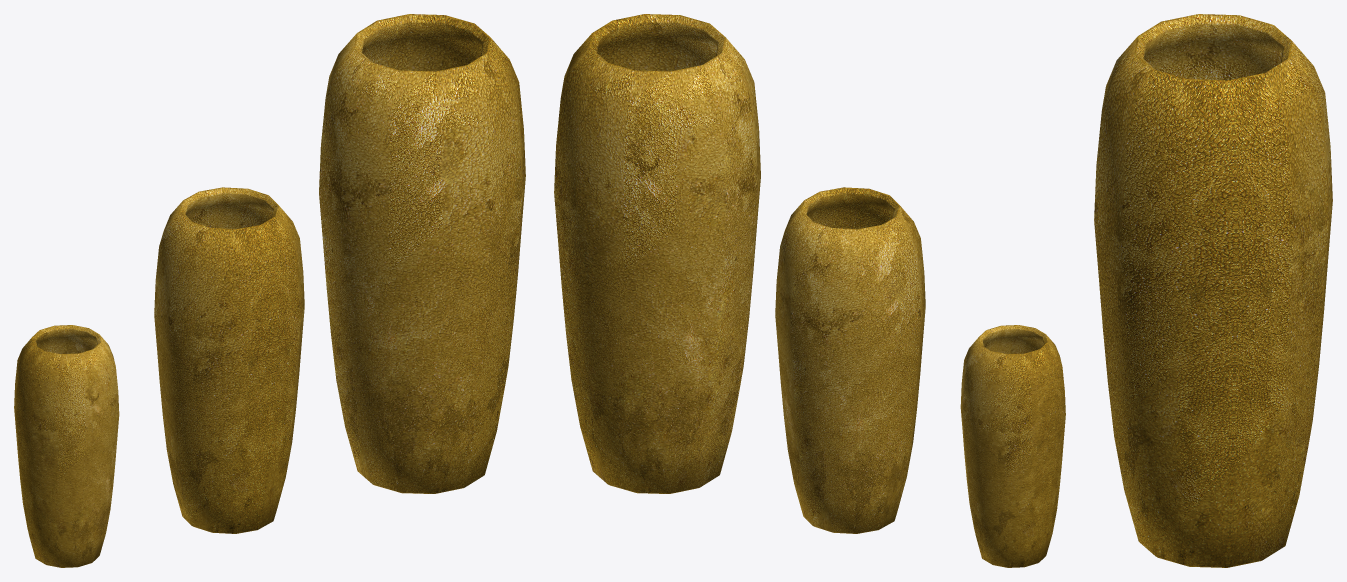
The model's file is Vases.FBX.
3 views of the same model, side by side, from view 1: azimuth 30°, elevation 25°; view 2: azimuth 150°, elevation 25°; view 3: azimuth 270°, elevation 25° (orthographic). The views are drawn at different scales.
Parts seen in each view (by area): view 1: vase 1, vase 2, vase 3; view 2: vase 1, vase 2, vase 3; view 3: vase 1.
Boxes of the visible parts, x1,y1,x2,y2 form: vase 1: [319, 14, 525, 493]; vase 2: [154, 187, 304, 533]; vase 3: [14, 325, 119, 567]; vase 1: [554, 14, 760, 493]; vase 2: [775, 187, 925, 533]; vase 3: [960, 325, 1065, 567]; vase 1: [1094, 14, 1332, 567].
Size of the model in its own units: 41.72 by 34.51 by 15.23.
1 material, 1 textured.
